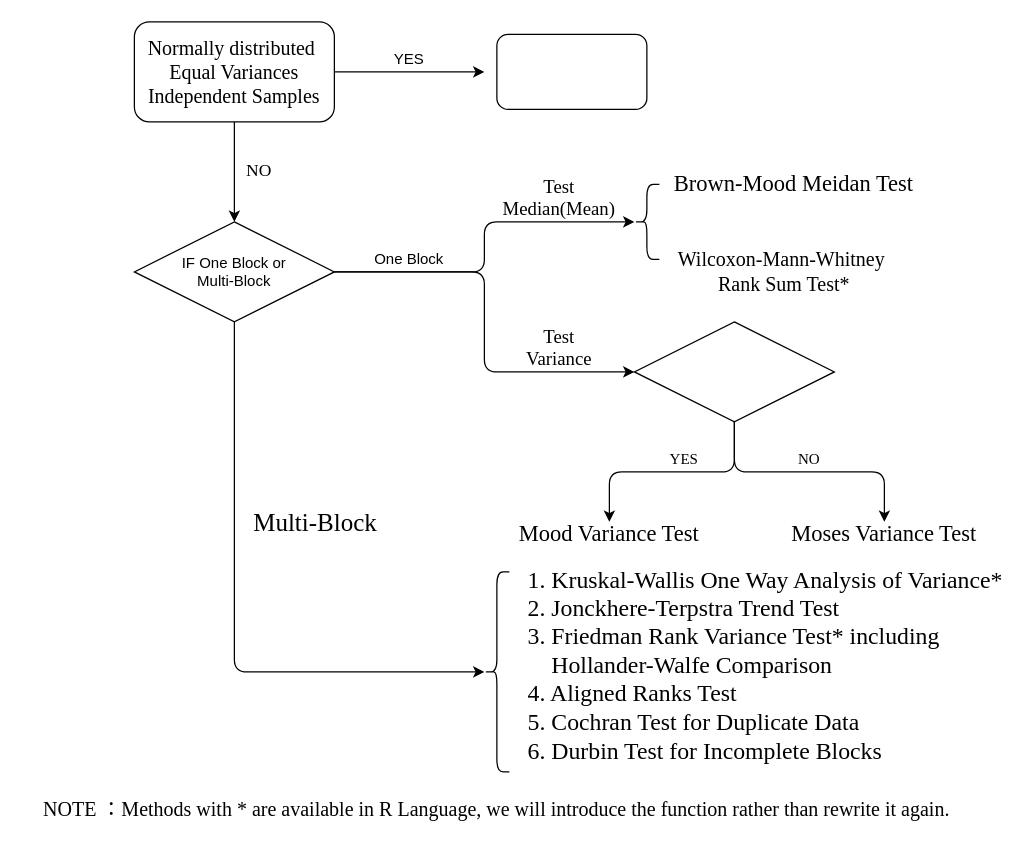
This 1030x844 diagram has some shape labels left out. The shapes that lost their labels are listed below. From the top down, each one's box as (x1, y1, x2, y2) in pixels, then its label:
(496, 33, 647, 109): ANOVA*
(633, 321, 834, 422): if the Position Para equals
